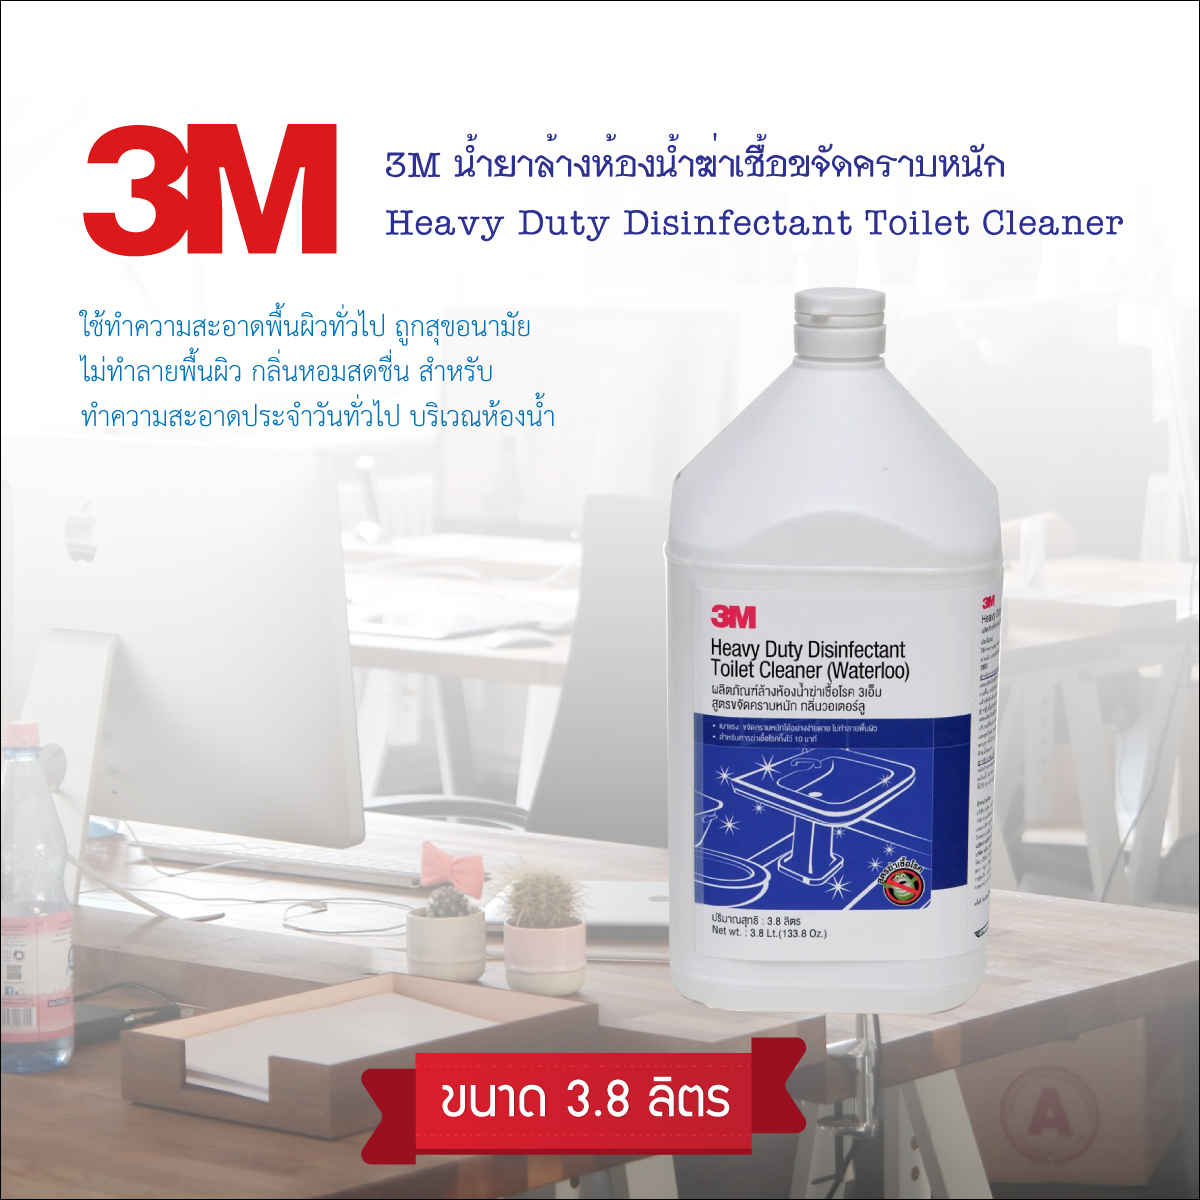Cleaning_solution: (660, 278, 1005, 1022)
